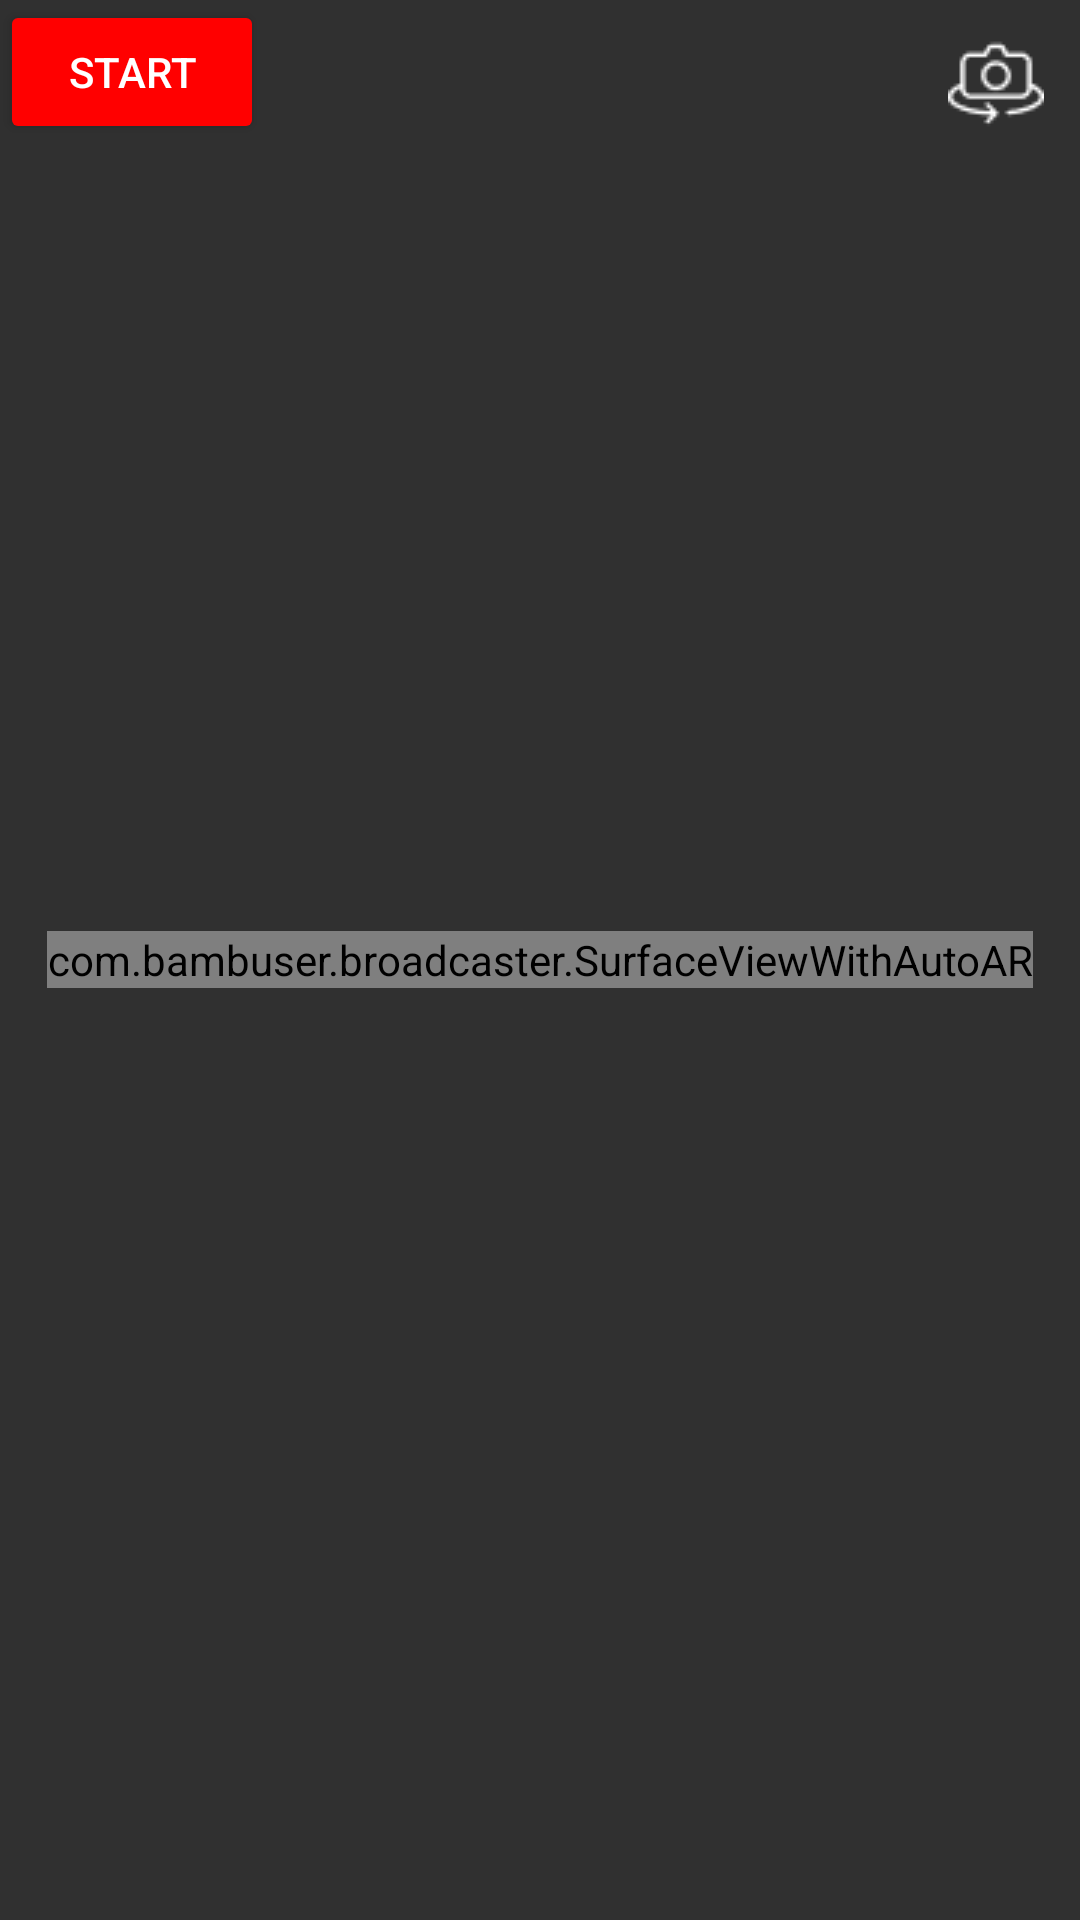

Icon bounding boxes for this 1080w x 1920h phone screenshot, format (x1, y1, x2, y2):
rotatecamera: (948, 42, 1044, 124)
